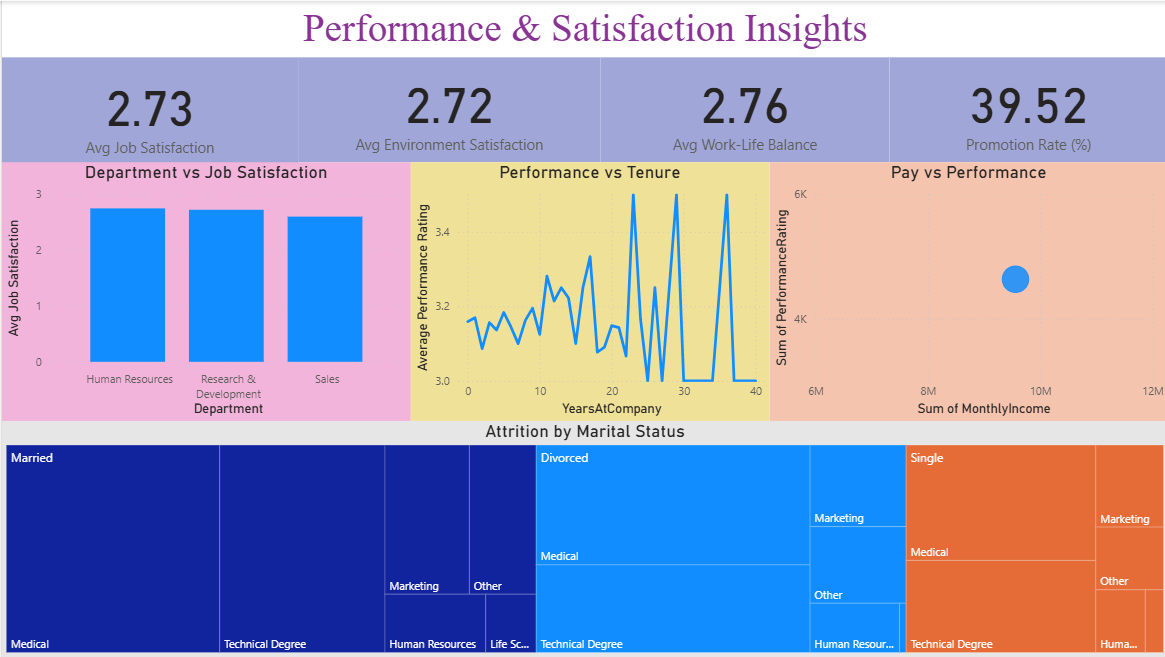

This screenshot's page, from the dashboard's own definition file:
{"tool":"powerbi","page":{"name":"Page 2","canvas":[1280,720],"ordinal":1},"visuals":[{"type":"card","fields":{"Values":["employee_attrition_results.Avg Job Satisfaction"]},"box":[0,61.7,325.2,120.8],"z":0},{"type":"card","fields":{"Values":["employee_attrition_results.Avg Environment Satisfaction"]},"box":[325.2,61.7,332.1,115.3],"z":1000},{"type":"card","fields":{"Values":["employee_attrition_results.Avg Work-Life Balance"]},"box":[657.3,61.7,317,115.3],"z":2000},{"type":"card","fields":{"Values":["employee_attrition_results.Promotion Rate (%)"]},"box":[974.3,61.7,306,115.3],"z":3000},{"type":"treemap","title":"Attrition by Marital Status","fields":{"Group":["employee_attrition_results.MaritalStatus"],"Details":["employee_attrition_results.EducationField"],"Values":["Sum(employee_attrition_results.EmployeeCount)"]},"box":[0,461.1,1280.3,259.3],"z":3001},{"type":"columnChart","title":"Department vs Job Satisfaction","fields":{"Category":["employee_attrition_results.Department"],"Y":["employee_attrition_results.Avg Job Satisfaction"]},"box":[0,177,448.7,284],"z":3002},{"type":"lineChart","title":"Performance vs Tenure","fields":{"Category":["employee_attrition_results.YearsAtCompany"],"Y":["employee_attrition_results.Average Performance Rating"]},"box":[448.7,177,393.8,284],"z":3003},{"type":"scatterChart","title":"Pay vs Performance ","fields":{"X":["Sum(employee_attrition_results.MonthlyIncome)"],"Size":["Sum(employee_attrition_results.JobLevel)"],"Y":["Sum(employee_attrition_results.PerformanceRating)"]},"box":[842.5,177,437.7,284],"z":3004},{"type":"textbox","box":[0,0,1280.3,61.7],"z":3005}]}

Visuals, with their boxes in screenshot pixels (x1, y1, x2, y2), scaled from the page's 1280x720 canvas onto the 1165x657 screenshot:
card - employee_attrition_results.Avg Job Satisfaction: x1=0 y1=56 x2=296 y2=167
card - employee_attrition_results.Avg Environment Satisfaction: x1=296 y1=56 x2=598 y2=162
card - employee_attrition_results.Avg Work-Life Balance: x1=598 y1=56 x2=887 y2=162
card - employee_attrition_results.Promotion Rate (%): x1=887 y1=56 x2=1164 y2=162
"Attrition by Marital Status" treemap: x1=0 y1=421 x2=1164 y2=656
"Department vs Job Satisfaction" columnChart: x1=0 y1=162 x2=408 y2=421
"Performance vs Tenure" lineChart: x1=408 y1=162 x2=767 y2=421
"Pay vs Performance " scatterChart: x1=767 y1=162 x2=1164 y2=421
textbox: x1=0 y1=0 x2=1164 y2=56
